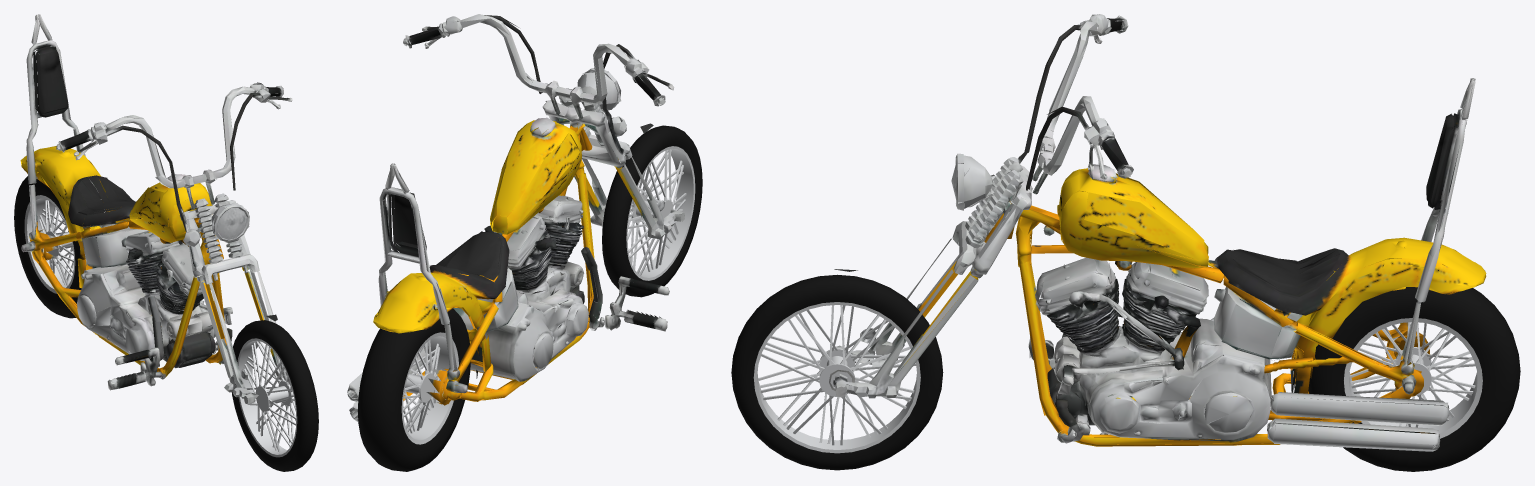
Rendered from chopper-2.glb.
The picture shows the model from 3 angles, left to right: view 1: azimuth 30°, elevation 25°; view 2: azimuth 150°, elevation 25°; view 3: azimuth 270°, elevation 25°; orthographic projection. The views are drawn at different scales.
Visible parts, largest first — view 1: Frota_chopper, Fork, Tyre_Front, Tyre_Rear; view 2: Frota_chopper, Tyre_Rear, Tyre_Front, Fork; view 3: Frota_chopper, Tyre_Front, Tyre_Rear, Fork.
Part boxes in pixels (<box>): Frota_chopper: <box>20,14,256,390</box>; Fork: <box>56,82,292,404</box>; Tyre_Front: <box>231,320,318,471</box>; Tyre_Rear: <box>14,176,102,318</box>; Frota_chopper: <box>347,96,669,421</box>; Tyre_Rear: <box>357,305,470,471</box>; Tyre_Front: <box>602,125,702,297</box>; Fork: <box>403,14,684,239</box>; Frota_chopper: <box>961,78,1486,451</box>; Tyre_Front: <box>731,274,943,470</box>; Tyre_Rear: <box>1308,287,1520,471</box>; Fork: <box>829,14,1133,398</box>.
Bounding box in the file's own units: 1.13 × 1.4 × 2.46.
1 material, 1 textured.
